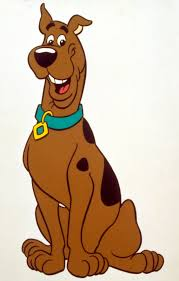scooby: (19, 2, 165, 277)
